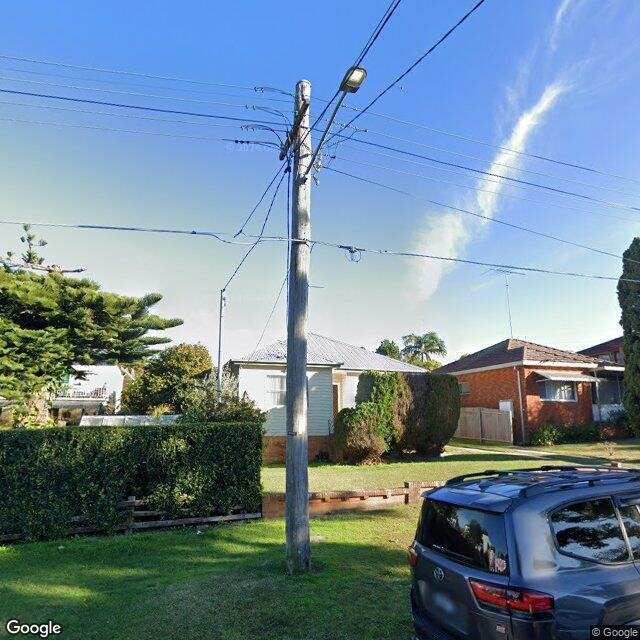crossarm: (278, 98, 312, 162)
steel-pole: (217, 289, 224, 402)
streetlight: (295, 67, 367, 183)
timber-pole: (285, 80, 312, 574)
